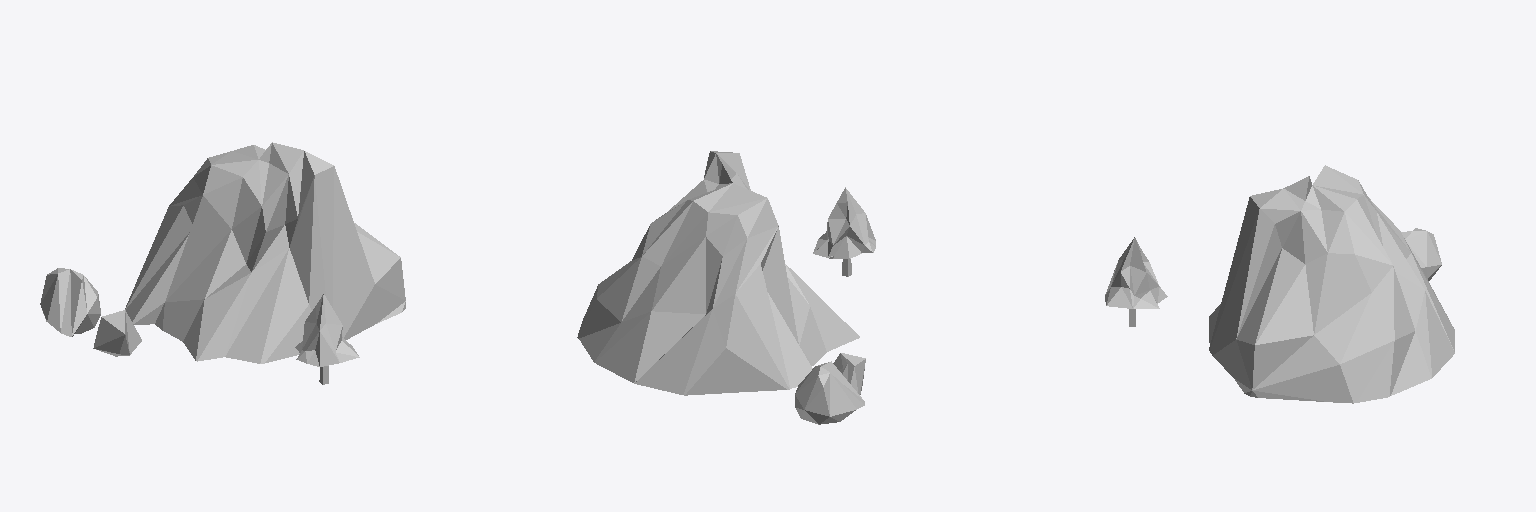
File: dao.obj
The picture shows the model from 3 angles: view 1: azimuth 30°, elevation 25°; view 2: azimuth 150°, elevation 25°; view 3: azimuth 270°, elevation 25°; orthographic projection.
Parts seen in each view (by area): view 1: stone2, stone3, tree, stone; view 2: stone2, stone3, tree, stone; view 3: stone2, tree, stone3.
Part boxes in pixels (x1,y1,x2,y2): stone2: (125, 142, 405, 363); stone3: (40, 268, 100, 336); tree: (295, 294, 359, 366); stone: (93, 310, 141, 356); stone2: (577, 151, 859, 395); stone3: (795, 361, 864, 424); tree: (813, 187, 875, 258); stone: (833, 353, 865, 394); stone2: (1209, 165, 1454, 403); tree: (1105, 237, 1167, 308); stone3: (1401, 228, 1441, 280).
Bounding box in the file's own units: 131 × 80.39 × 134.